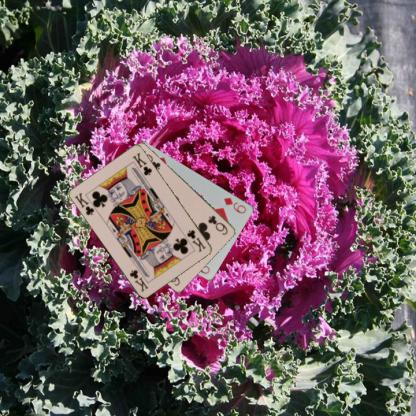6c: (206, 213, 229, 236)
9d: (221, 195, 248, 215)
Kc: (72, 190, 96, 217), (184, 227, 208, 253)
